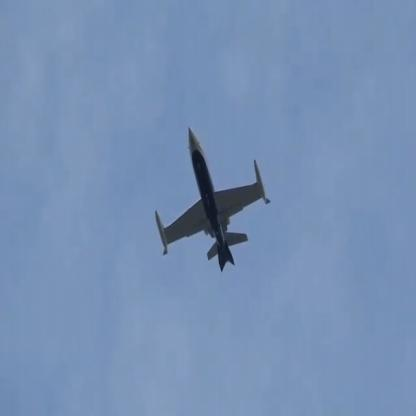plane: (152, 126, 272, 274)
